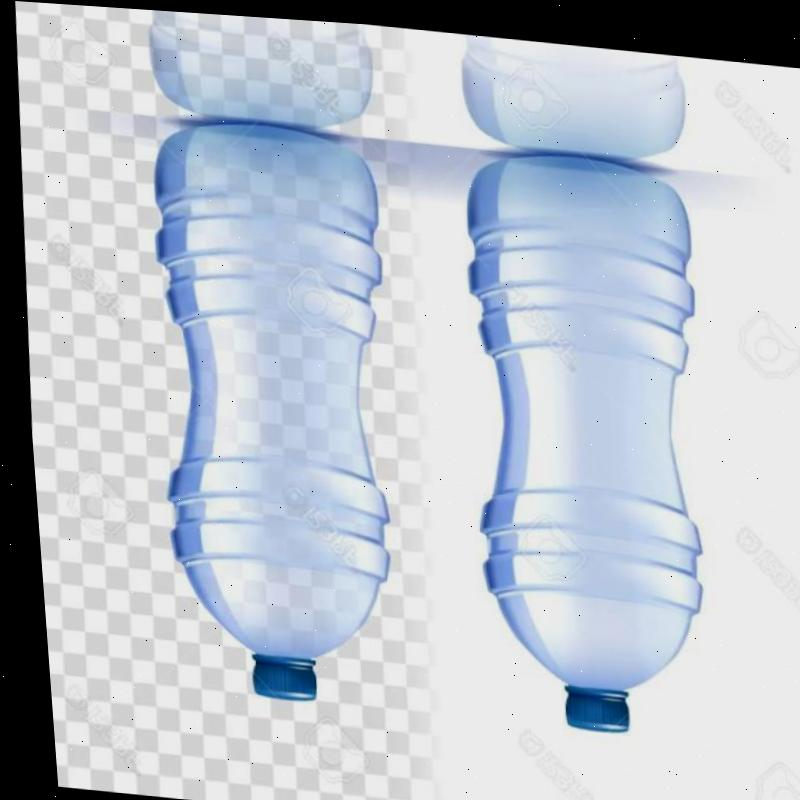botella: (121, 110, 408, 707), (439, 138, 717, 733)
